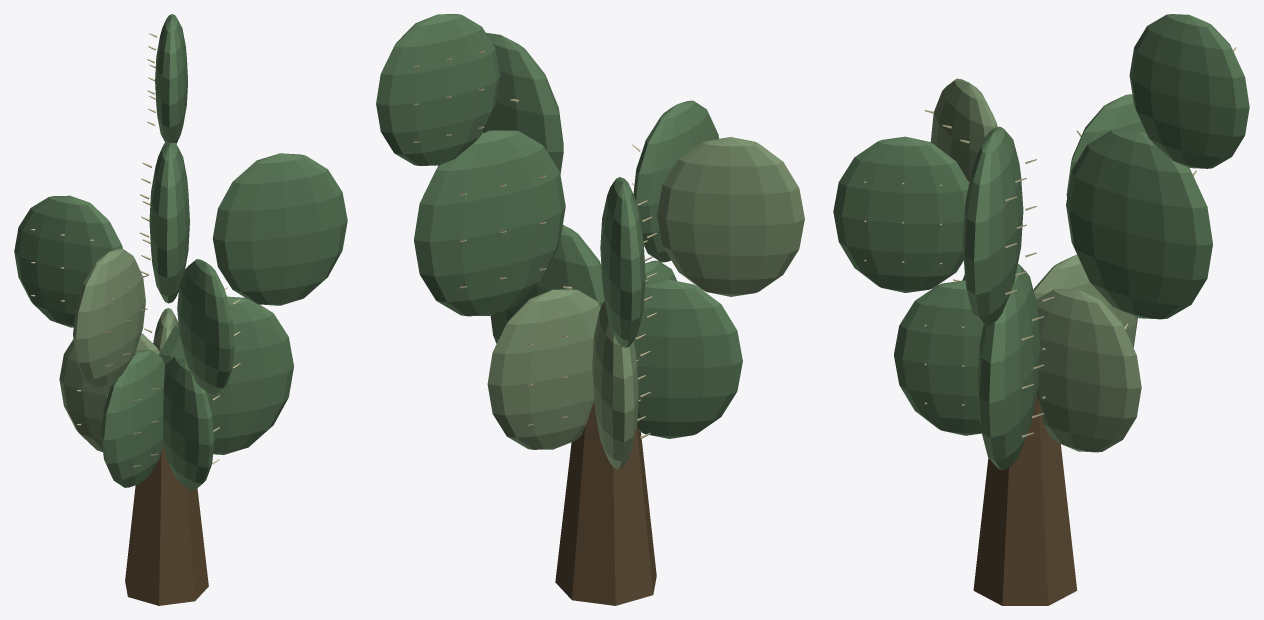
File: cactus_small.glb
3 views of the same model, side by side, from view 1: azimuth 30°, elevation 25°; view 2: azimuth 150°, elevation 25°; view 3: azimuth 270°, elevation 25° (orthographic). The views are drawn at different scales.
Visible parts, largest first — view 1: cactus_small; view 2: cactus_small; view 3: cactus_small.
Part boxes in pixels (bbox=[...]): cactus_small: bbox=[14, 14, 347, 605]; cactus_small: bbox=[376, 14, 804, 605]; cactus_small: bbox=[833, 14, 1249, 605].
Bounding box in the file's own units: 0.4277 × 0.7137 × 0.4383.
